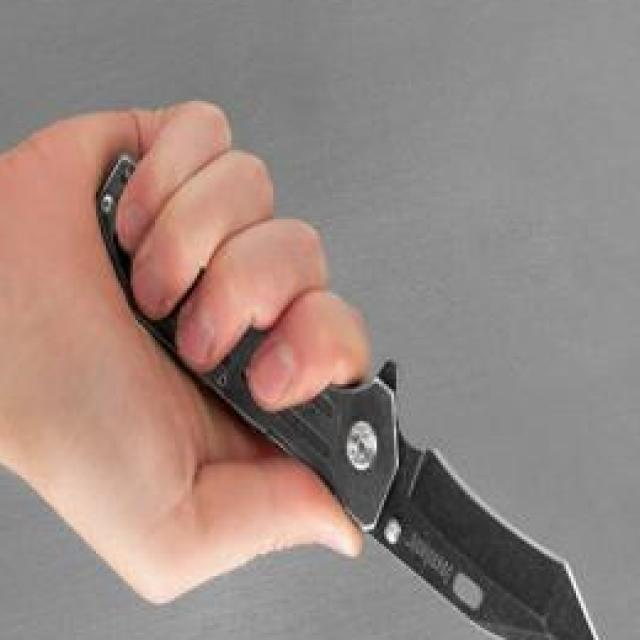knife: (177, 258, 630, 640)
